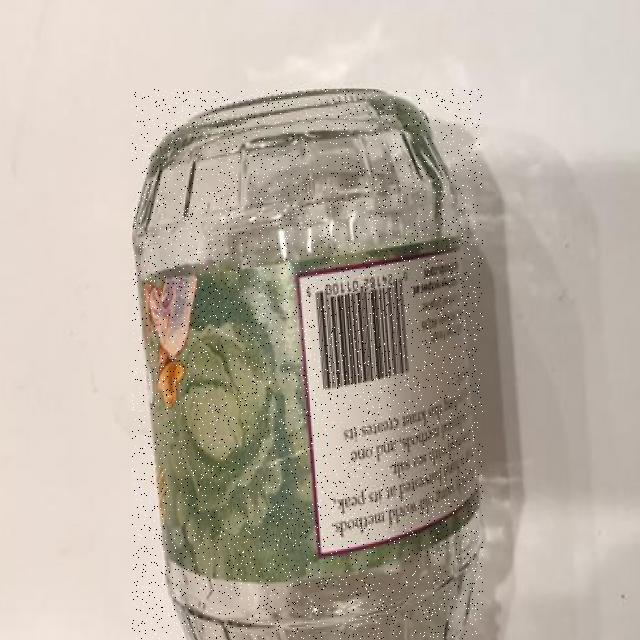glass: (132, 90, 483, 639)
